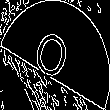O_SW: (32, 22, 78, 88)
